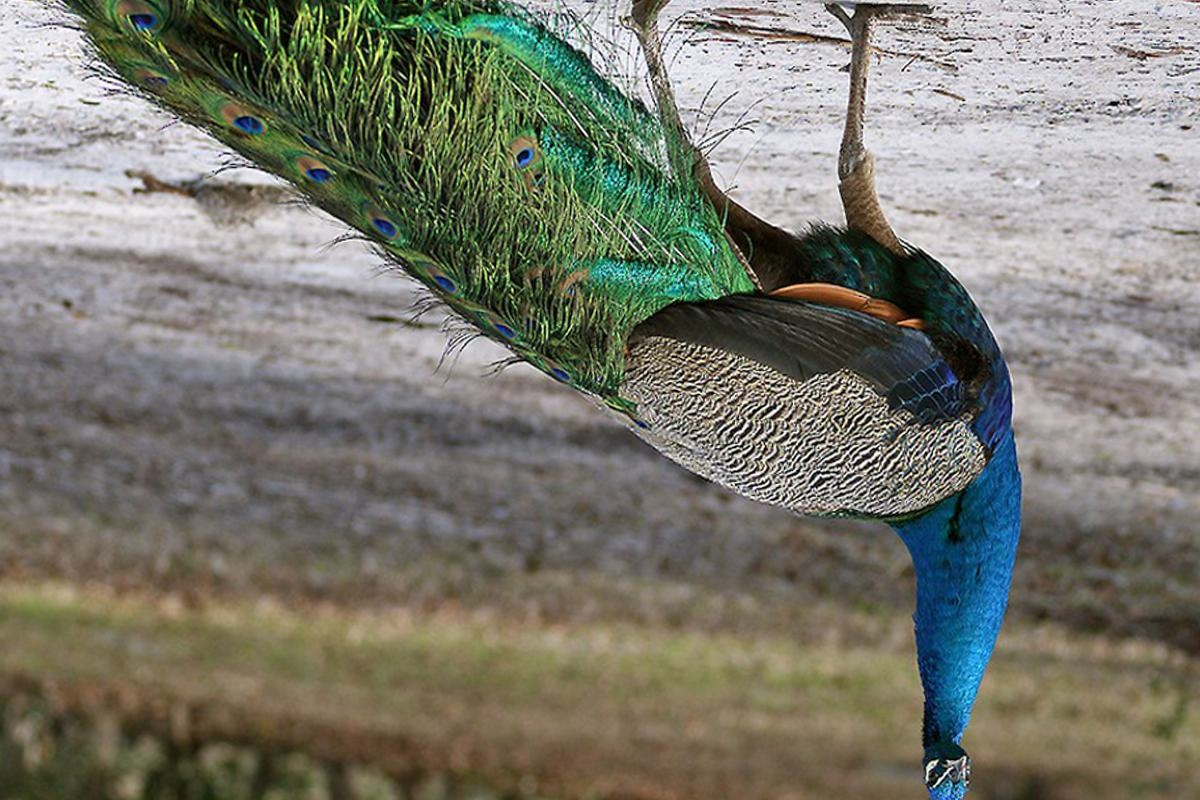peacock: (30, 1, 1029, 796)
